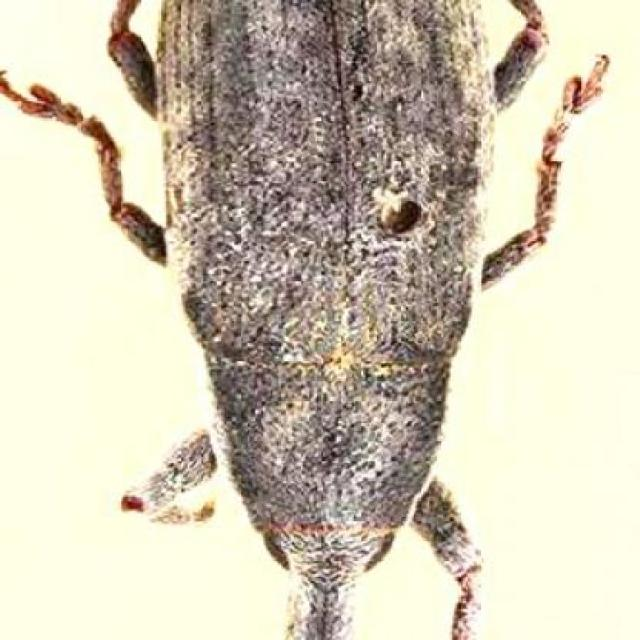rice-bug: (93, 0, 578, 640)
